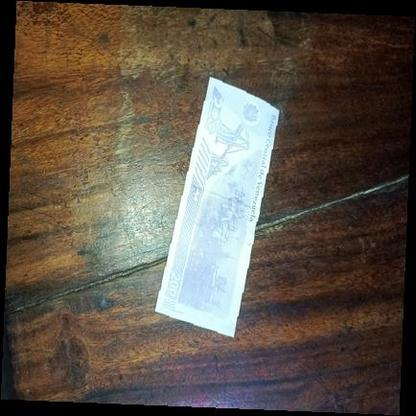vef_back: (155, 76, 280, 338)
